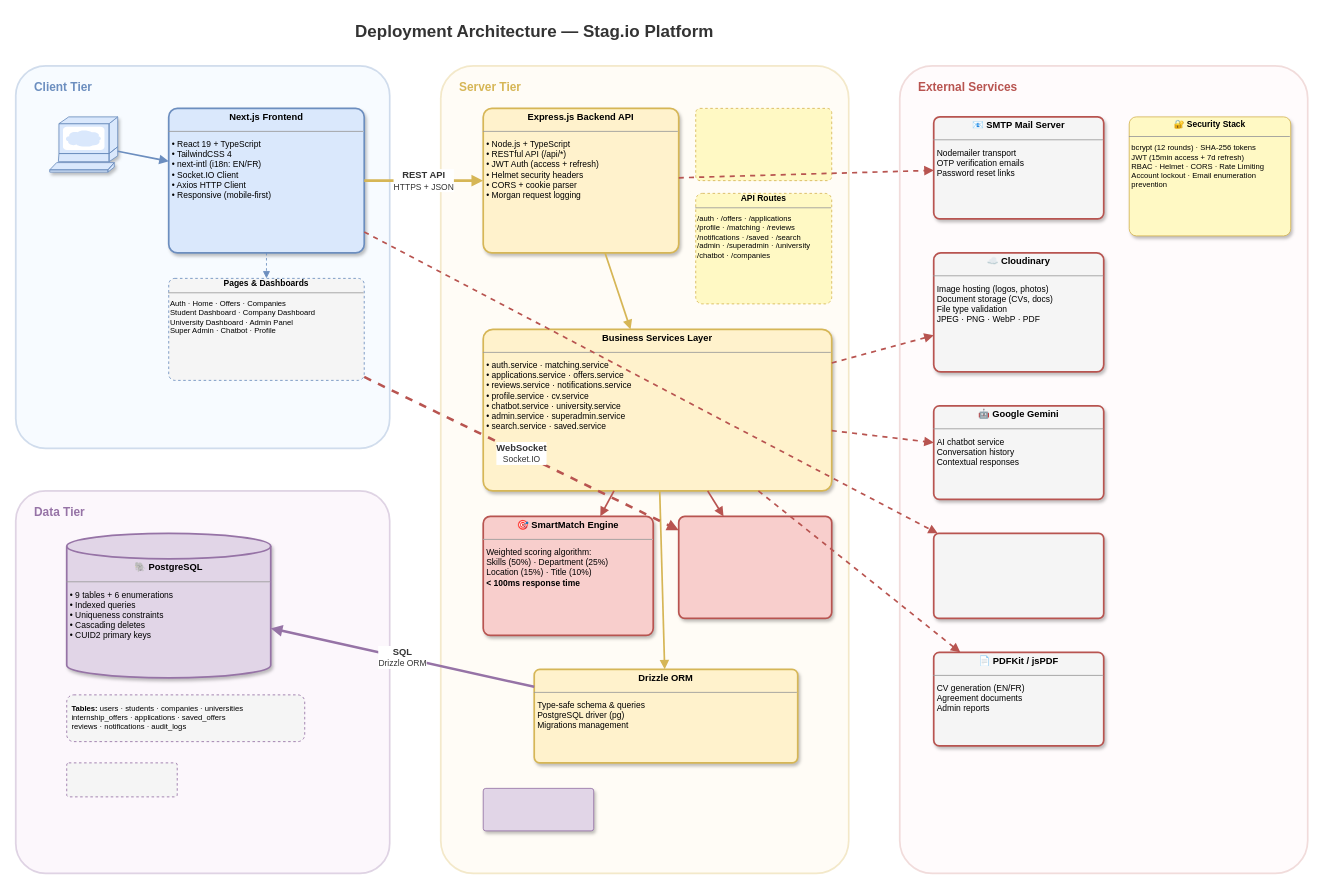
The diagram is 1323 pixels wide and 888 high, and some of its shapes have lost their labels. The centre of each missing label's shape, as x and y in pixels:
"MCP Server AI Agent Tools" belongs at point (539, 810).
"Middleware Auth Guard · RBAC · Rate Limiter Login Limiter · Error Handler" belongs at point (763, 144).
"seed.ts Demo data generator" belongs at point (121, 779).
"Web Browser Chrome / Firefox / Edge / Safari" belongs at point (84, 145).
"⚡ Socket.IO Real-time WebSocket JWT-authenticated rooms Push notifications < 1s" belongs at point (755, 568).
"🛡️ Cloudflare Turnstile CAPTCHA bot protection Registration & login forms" belongs at point (1019, 577).
